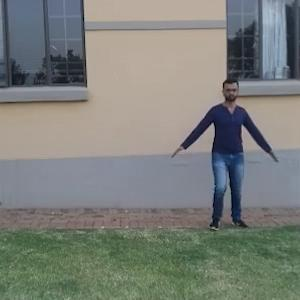land: (179, 80, 274, 225)
